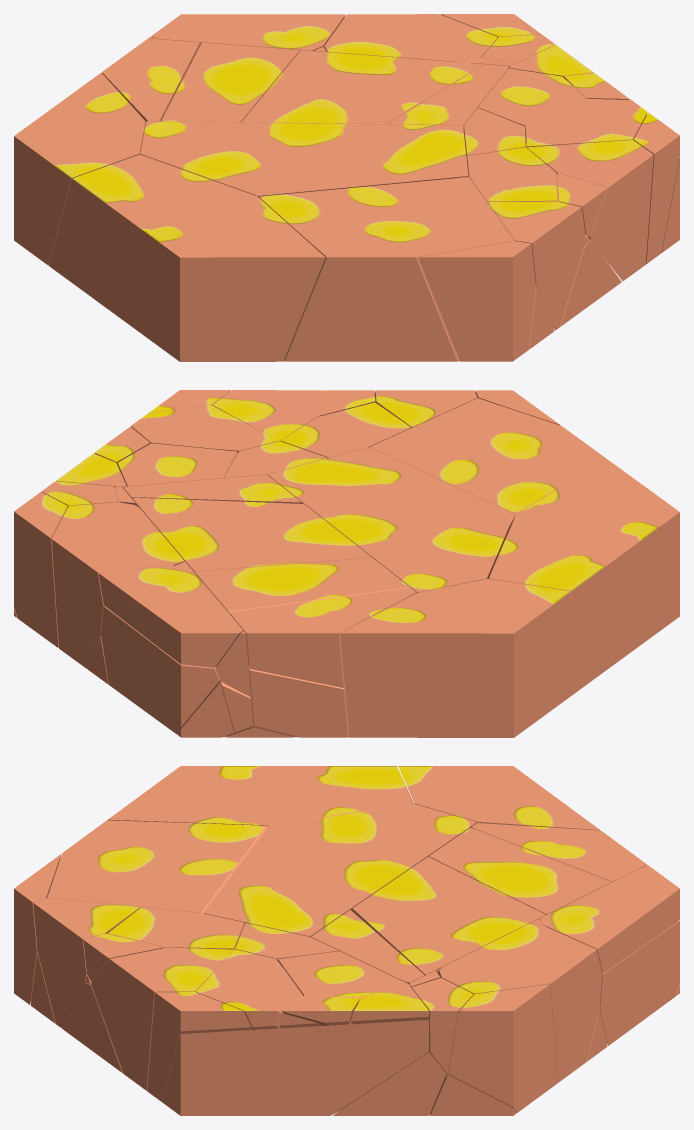
The model's file is Hex40.fbx.
3 renders of one model, top to bottom at view 1: azimuth 30°, elevation 25°; view 2: azimuth 150°, elevation 25°; view 3: azimuth 270°, elevation 25°, orthographic.
Parts seen in each view (by area): view 1: Hex1.001_cell.011, Hex1.001_cell.002, Hex1.001_cell.008, Hex1.001_cell.012, Hex1.001_cell.010_cell.002, Hex1.001_cell.009, Hex1.001_cell.018_cell.003, Hex1.001_cell.010_cell.003, Hex1.001_cell.014_cell, Hex1.001_cell.018_cell.011, Hex1.001_cell.014_cell.017, Hex1.001_cell.010_cell.001 (+13 smaller); view 2: Hex1.001_cell.012, Hex1.001_cell.011, Hex1.001_cell.008, Hex1.001_cell.002, Hex1.001_cell.010_cell.003, Hex1.001_cell.010_cell.002, Hex1.001_cell.014_cell, Hex1.001_cell.014_cell.017, Hex1.001_cell.010_cell.001, Hex1.001_cell.014_cell.013, Hex1.001_cell.014_cell.015, Hex1.001_cell.018_cell.010 (+16 smaller); view 3: Hex1.001_cell.016, Hex1.001_cell.008, Hex1.001_cell.002, Hex1.001_cell.011, Hex1.001_cell.010_cell.002, Hex1.001_cell.014_cell, Hex1.001_cell.014_cell.015, Hex1.001_cell.018_cell.003, Hex1.001_cell.012, Hex1.001_cell.014_cell.017, Hex1.001_cell.010_cell.003, Hex1.001_cell.018_cell.011 (+17 smaller).
Boxes of the visible parts, x1,y1,x2,y2 form: Hex1.001_cell.011: (48, 155, 325, 361); Hex1.001_cell.002: (258, 177, 554, 361); Hex1.001_cell.008: (140, 121, 468, 195); Hex1.001_cell.012: (14, 72, 145, 265); Hex1.001_cell.010_cell.002: (241, 50, 483, 196); Hex1.001_cell.009: (418, 241, 535, 361); Hex1.001_cell.018_cell.003: (526, 140, 653, 281); Hex1.001_cell.010_cell.003: (159, 42, 299, 122); Hex1.001_cell.014_cell: (324, 14, 497, 62); Hex1.001_cell.018_cell.011: (488, 201, 585, 330); Hex1.001_cell.014_cell.017: (152, 14, 345, 52); Hex1.001_cell.010_cell.001: (102, 38, 199, 123); Hex1.001_cell.012: (340, 579, 571, 737); Hex1.001_cell.011: (487, 459, 679, 712); Hex1.001_cell.008: (268, 447, 513, 593); Hex1.001_cell.002: (369, 398, 605, 524); Hex1.001_cell.010_cell.003: (195, 557, 409, 737); Hex1.001_cell.010_cell.002: (132, 497, 371, 572); Hex1.001_cell.014_cell: (51, 502, 184, 668); Hex1.001_cell.014_cell.017: (98, 565, 243, 667); Hex1.001_cell.010_cell.001: (229, 588, 416, 687); Hex1.001_cell.014_cell.013: (101, 606, 219, 734); Hex1.001_cell.014_cell.015: (14, 492, 67, 647); Hex1.001_cell.018_cell.010: (131, 405, 278, 452); Hex1.001_cell.016: (162, 1020, 428, 1115); Hex1.001_cell.008: (204, 803, 476, 936); Hex1.001_cell.002: (30, 820, 267, 1023); Hex1.001_cell.011: (108, 766, 413, 826); Hex1.001_cell.010_cell.002: (351, 857, 545, 975); Hex1.001_cell.014_cell: (437, 923, 602, 1082); Hex1.001_cell.014_cell.015: (449, 984, 557, 1112); Hex1.001_cell.018_cell.003: (91, 947, 233, 1090); Hex1.001_cell.012: (398, 766, 600, 830); Hex1.001_cell.014_cell.017: (539, 867, 679, 973); Hex1.001_cell.010_cell.003: (428, 828, 611, 914); Hex1.001_cell.018_cell.011: (33, 898, 140, 1027).
Bounding box in the file's own units: 1 × 0.2003 × 1.15.
1 material, 1 textured.
